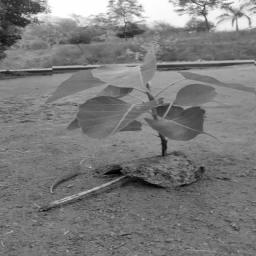LEAVS: (52, 44, 256, 167)
